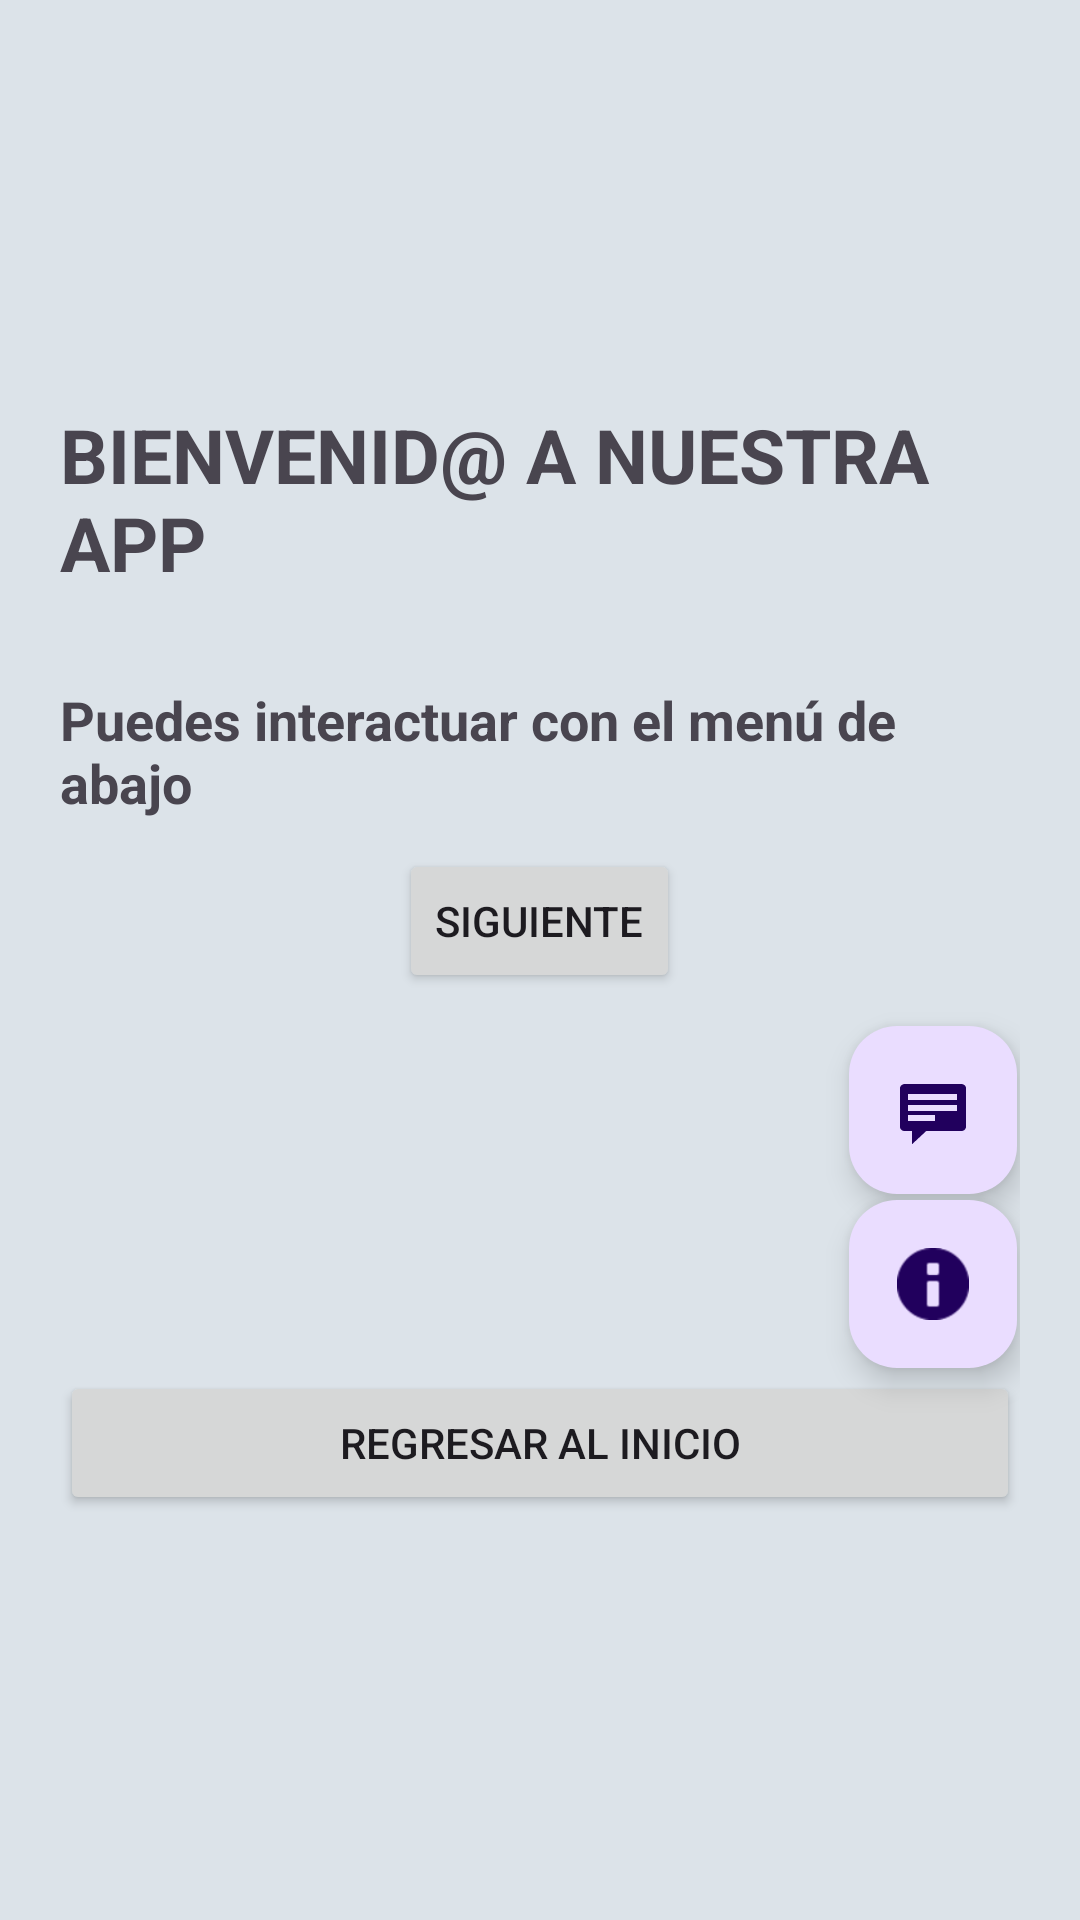

Locate icon controls on the screen. Image size 1080x1920, boxes as (x1, y1, x2, y2).
Botón flotante para mensaje: (849, 1026, 1017, 1194)
